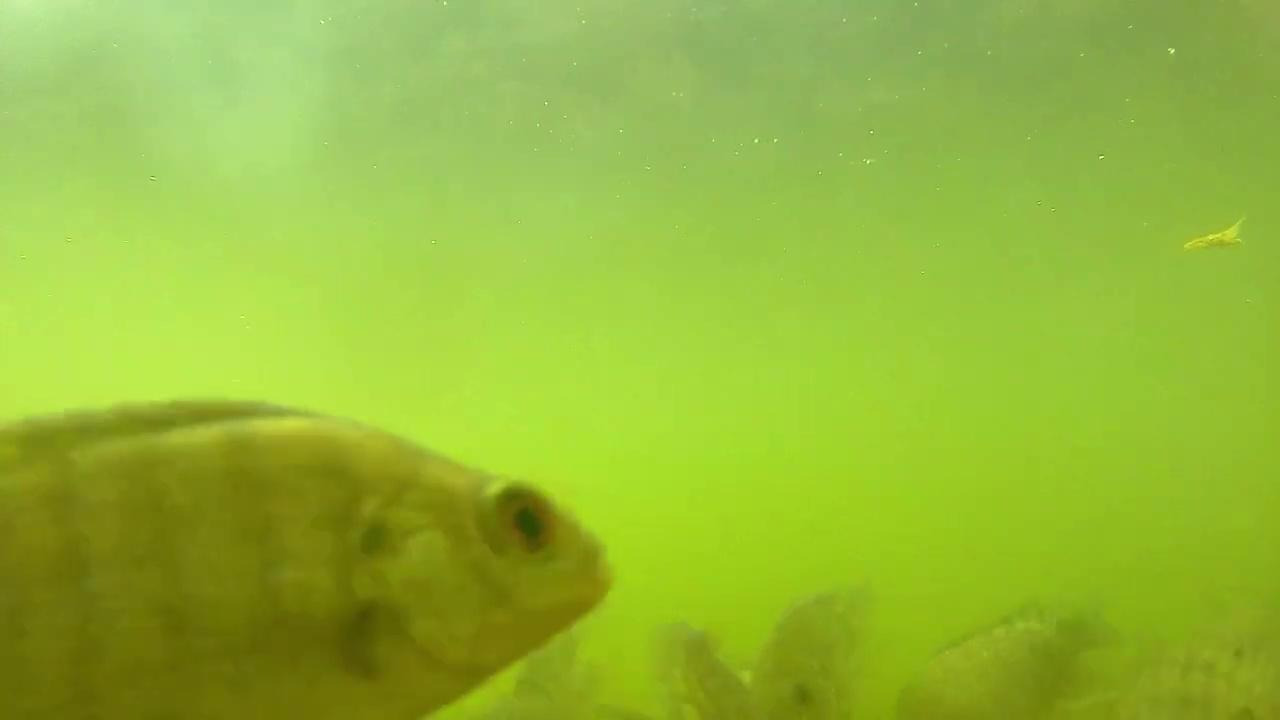Tilapia: (0, 396, 615, 720)
